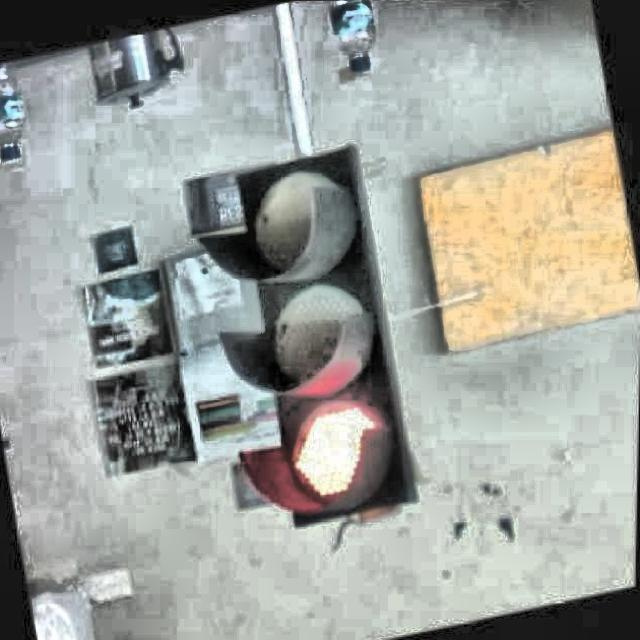red: (217, 136, 397, 528)
